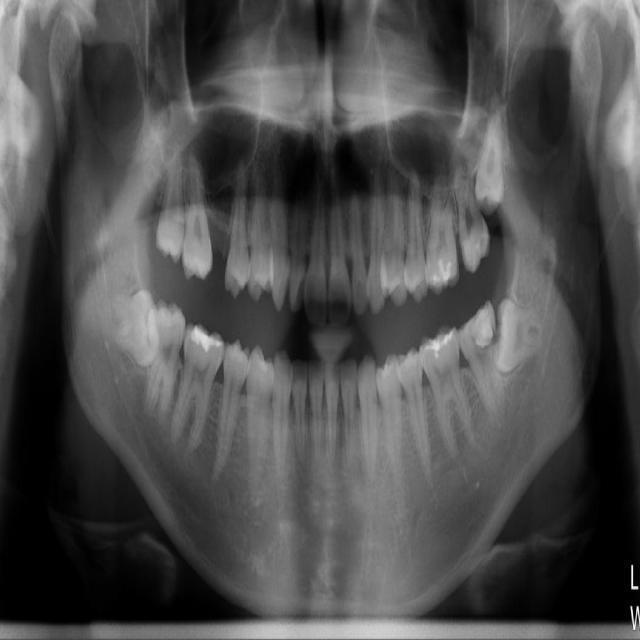Filling: (456, 300, 495, 361), (183, 323, 226, 371), (466, 222, 492, 264), (422, 328, 454, 361), (432, 258, 452, 288)
Missing teeth: (210, 250, 229, 288)
impacted tooth: (95, 289, 156, 361), (475, 96, 509, 210), (496, 301, 548, 371)
